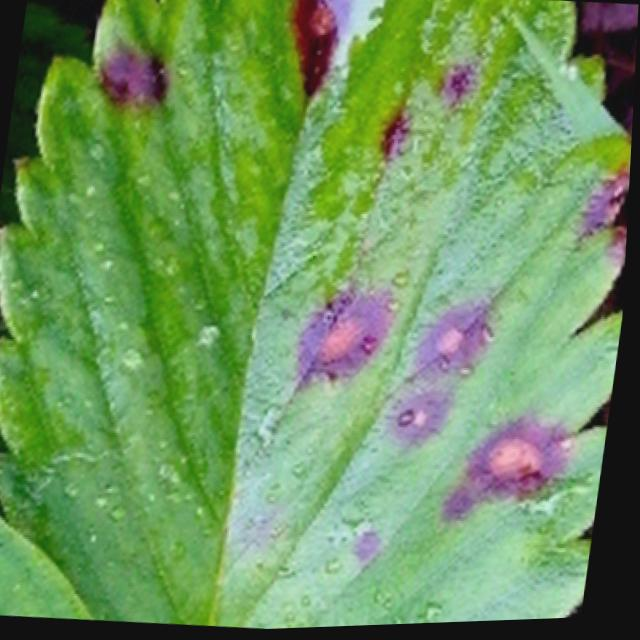Leaf Spot: (0, 0, 634, 631)
